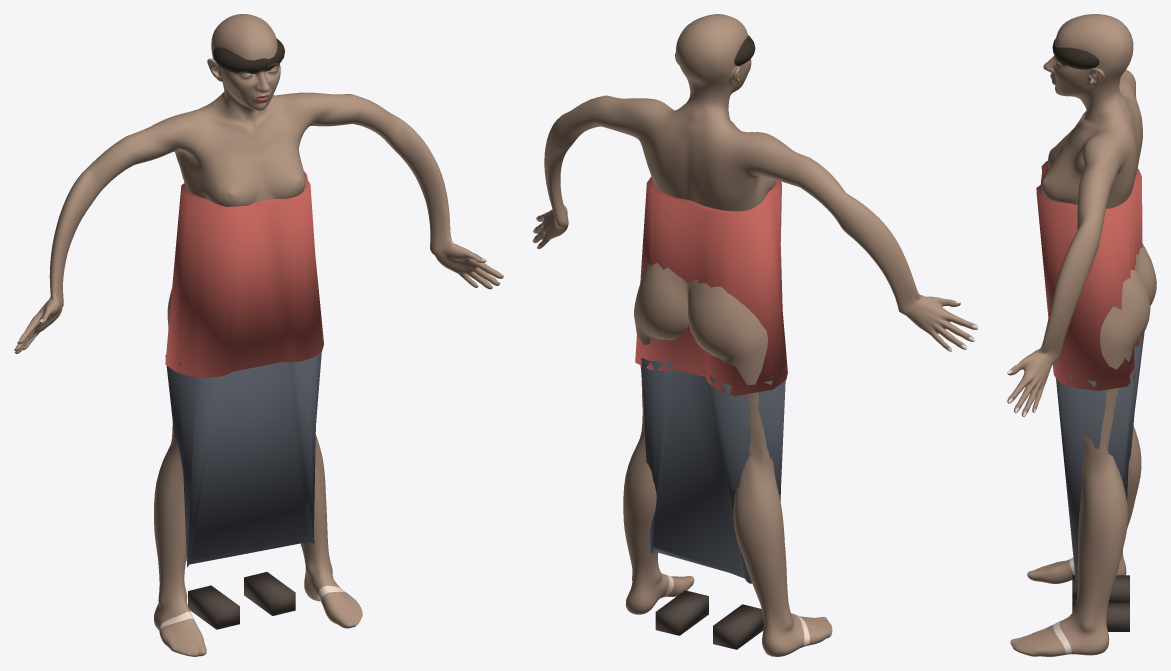
File: hm_ped_dane_v14.glb
3 renders of one model, left to right at view 1: azimuth 30°, elevation 25°; view 2: azimuth 150°, elevation 25°; view 3: azimuth 270°, elevation 25°, orthographic. The views are drawn at different scales.
Parts seen in each view (by area): view 1: hm_ped_dane; view 2: hm_ped_dane; view 3: hm_ped_dane.
Boxes of the visible parts, x1=… form: hm_ped_dane: x1=14, y1=14, x2=503, y2=656; hm_ped_dane: x1=532, y1=14, x2=978, y2=656; hm_ped_dane: x1=1007, y1=14, x2=1156, y2=656.
Size of the model in its own units: 1.48 by 1.84 by 0.4158.
